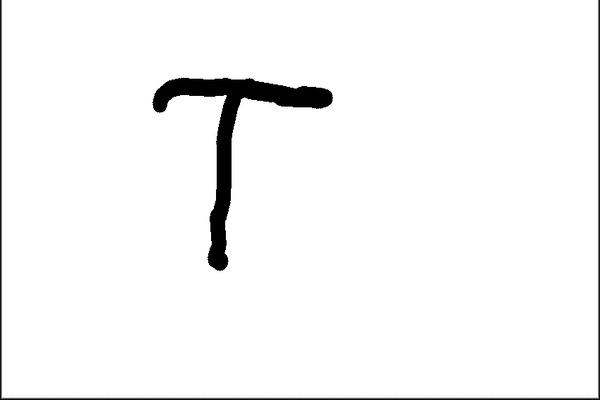T: (147, 69, 337, 275)
